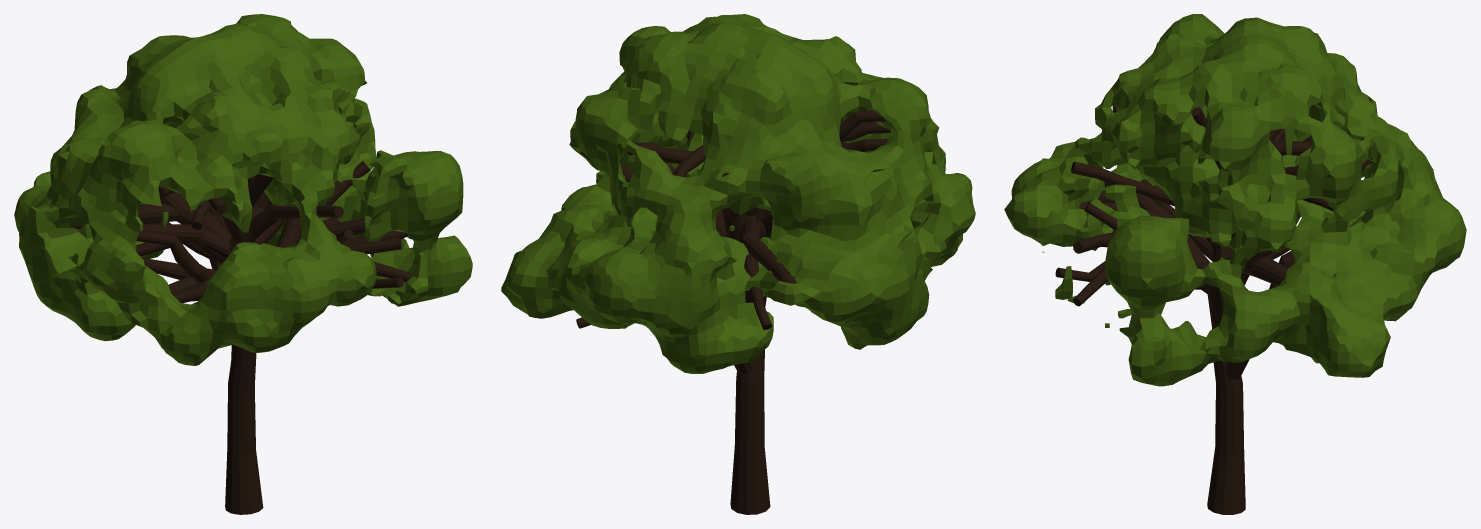
The model's file is tree_oak.glb.
3 views of the same model, side by side, from view 1: azimuth 30°, elevation 25°; view 2: azimuth 150°, elevation 25°; view 3: azimuth 270°, elevation 25° (orthographic). The views are drawn at different scales.
Visible parts, largest first — view 1: LowerCrown, TreeTrunk; view 2: LowerCrown, TreeTrunk; view 3: LowerCrown, TreeTrunk.
Part boxes in pixels (x1,y1,x2,y2): LowerCrown: (14,14,472,365); TreeTrunk: (74,161,413,514); LowerCrown: (501,14,975,373); TreeTrunk: (576,110,890,514); LowerCrown: (1004,14,1466,386); TreeTrunk: (1055,97,1372,514).
Bounding box in the file's own units: 4.42 × 5.3 × 4.7.
